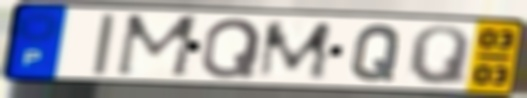I: (89, 12, 119, 77)
M: (111, 13, 204, 81), (254, 20, 336, 81)
Q: (197, 16, 265, 80), (406, 23, 472, 87), (347, 22, 406, 83)
